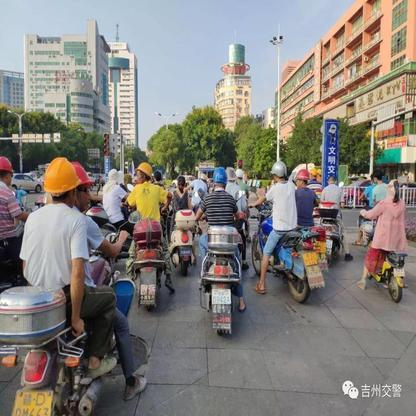target: (5, 155, 146, 408), (253, 160, 325, 306), (194, 165, 252, 338), (124, 160, 179, 310)
